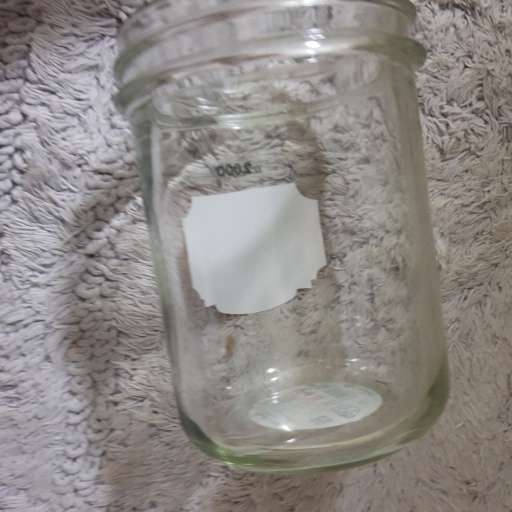Glass_5: (111, 3, 450, 470)
